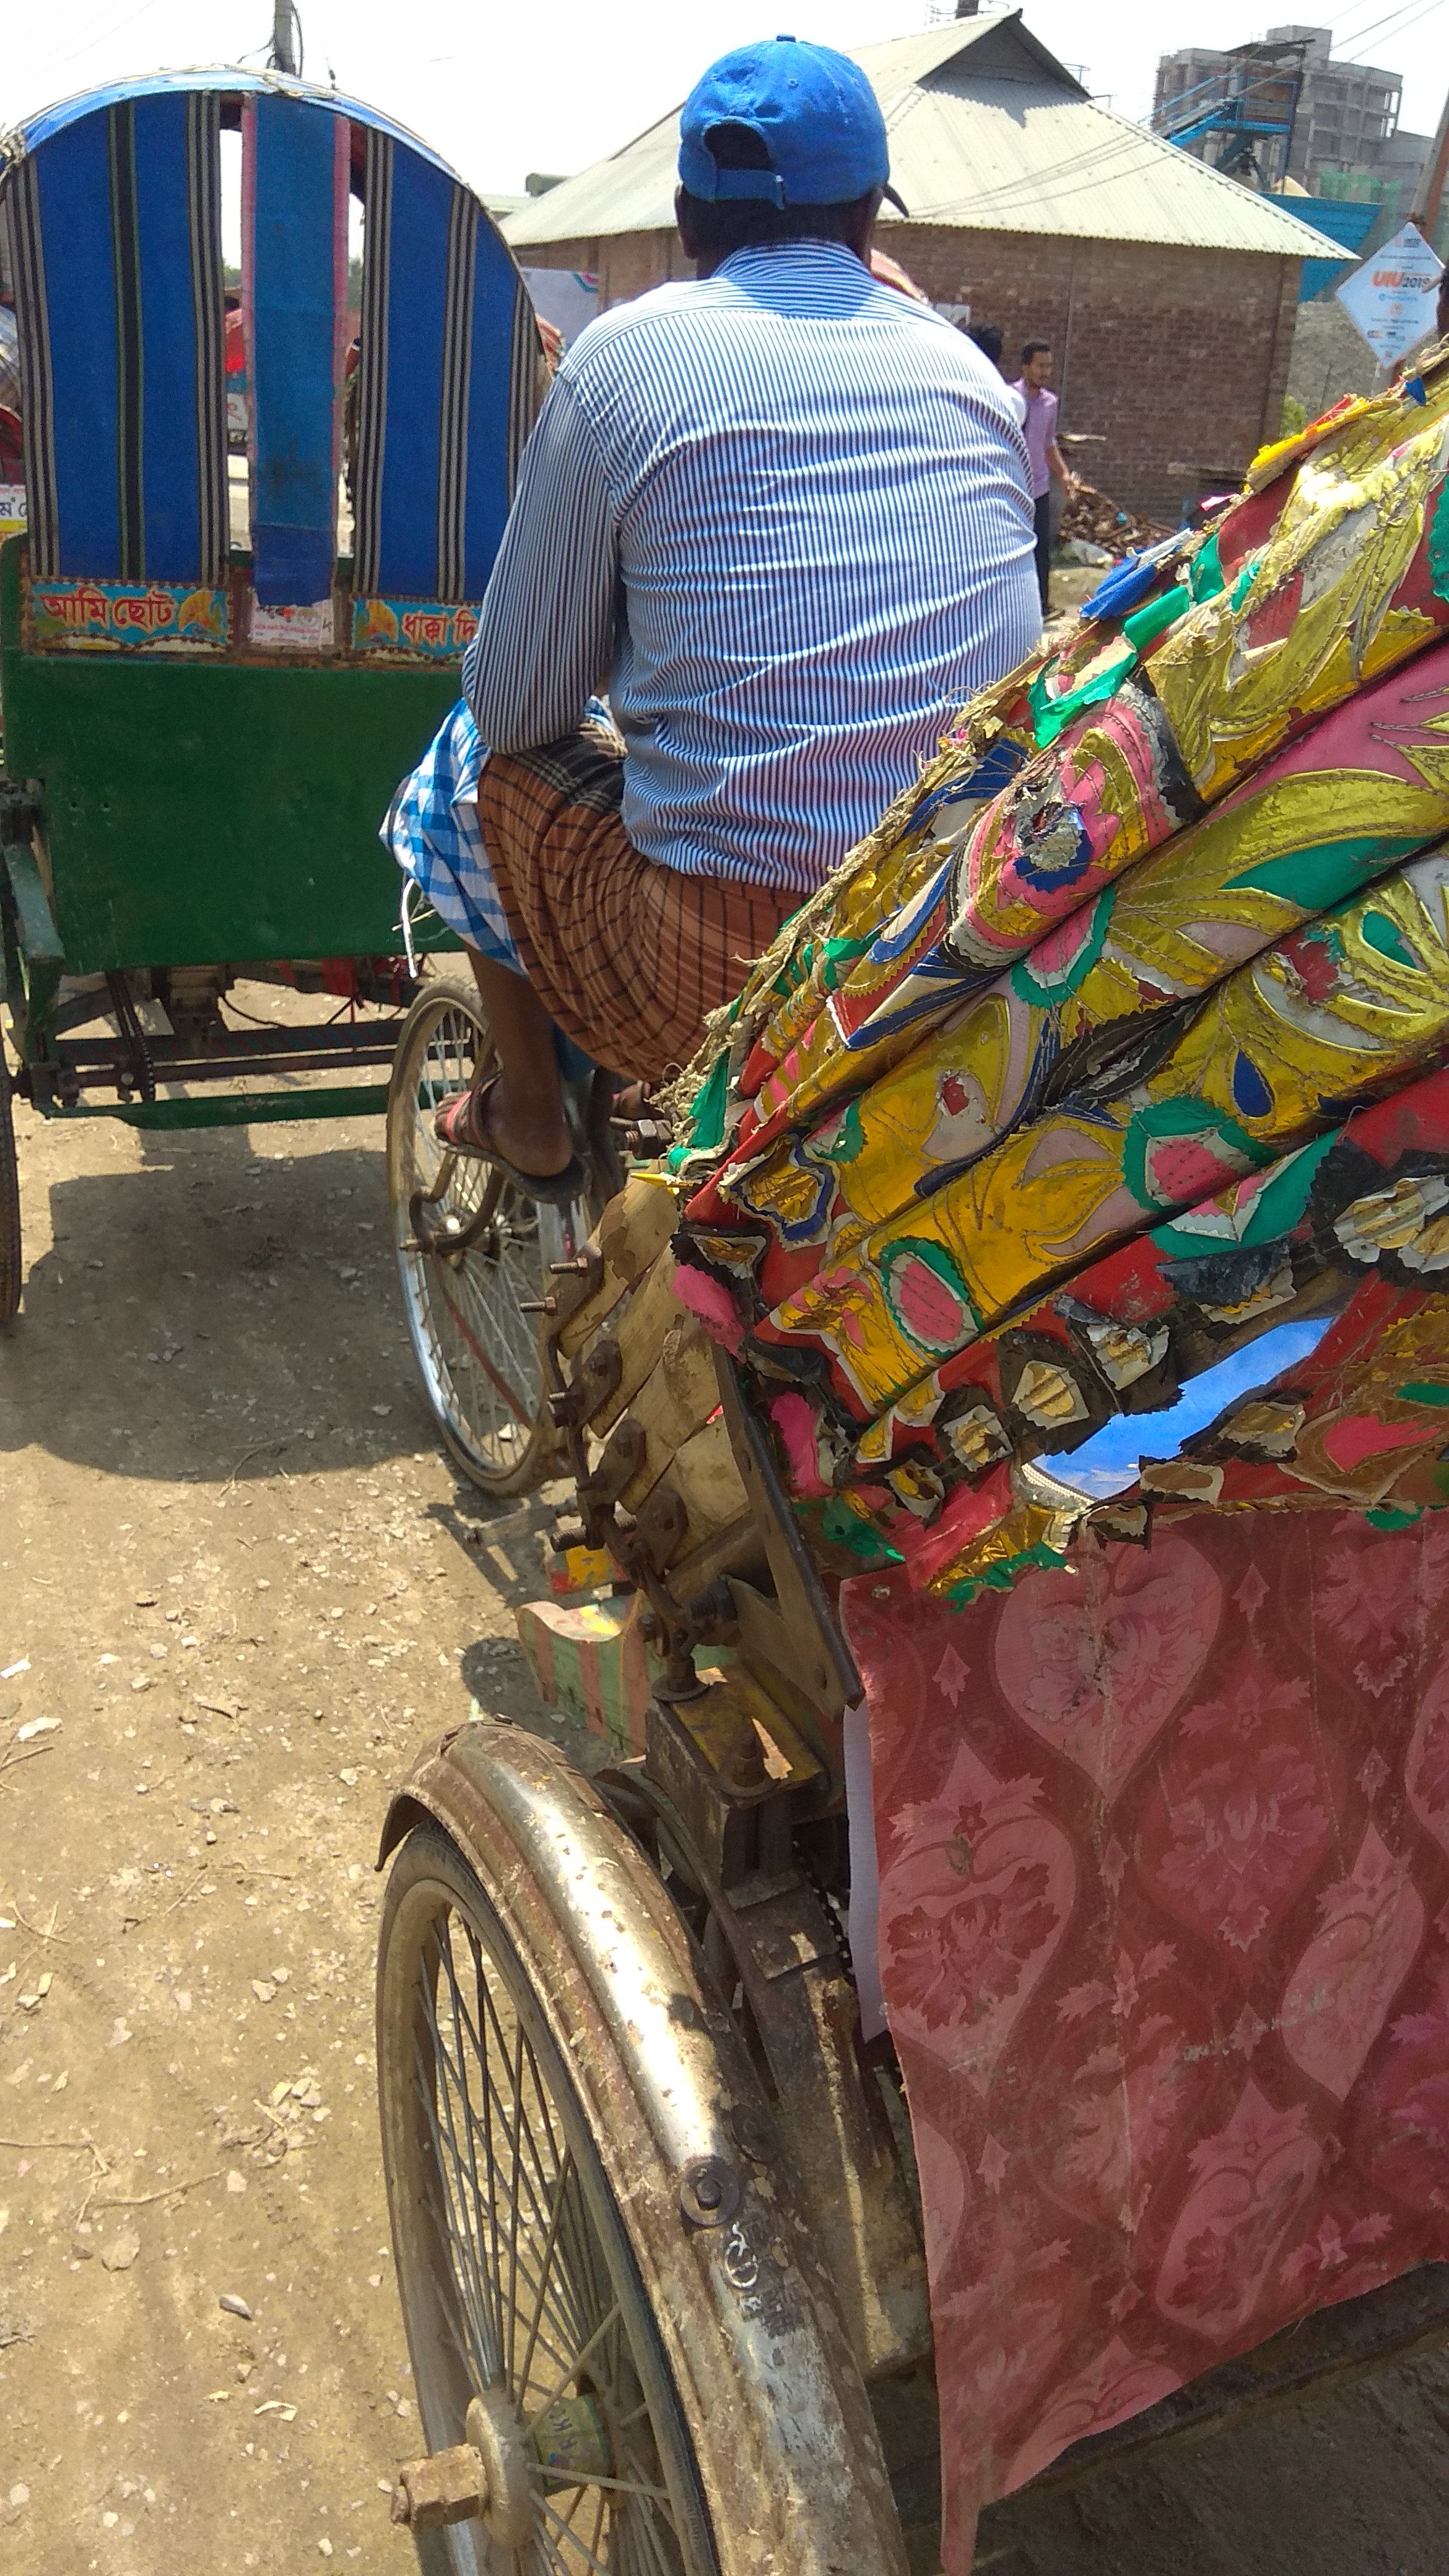Rickshaw: (479, 11, 1440, 2157), (12, 53, 600, 1228)
